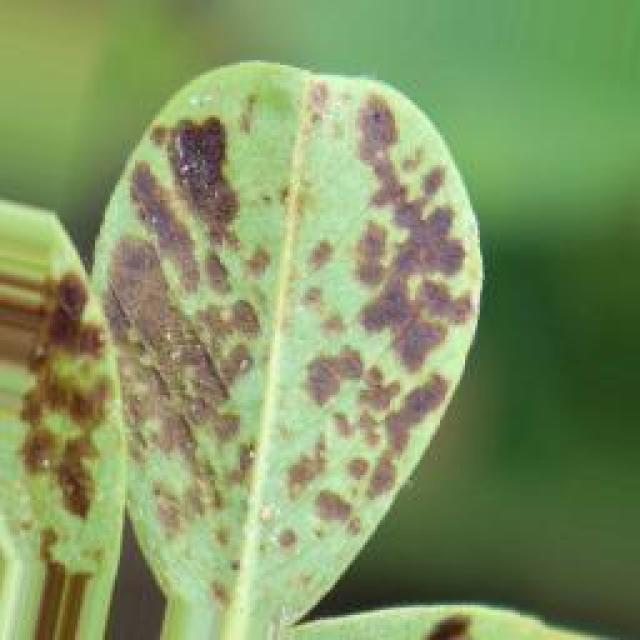Whitefly: (63, 54, 477, 592)
